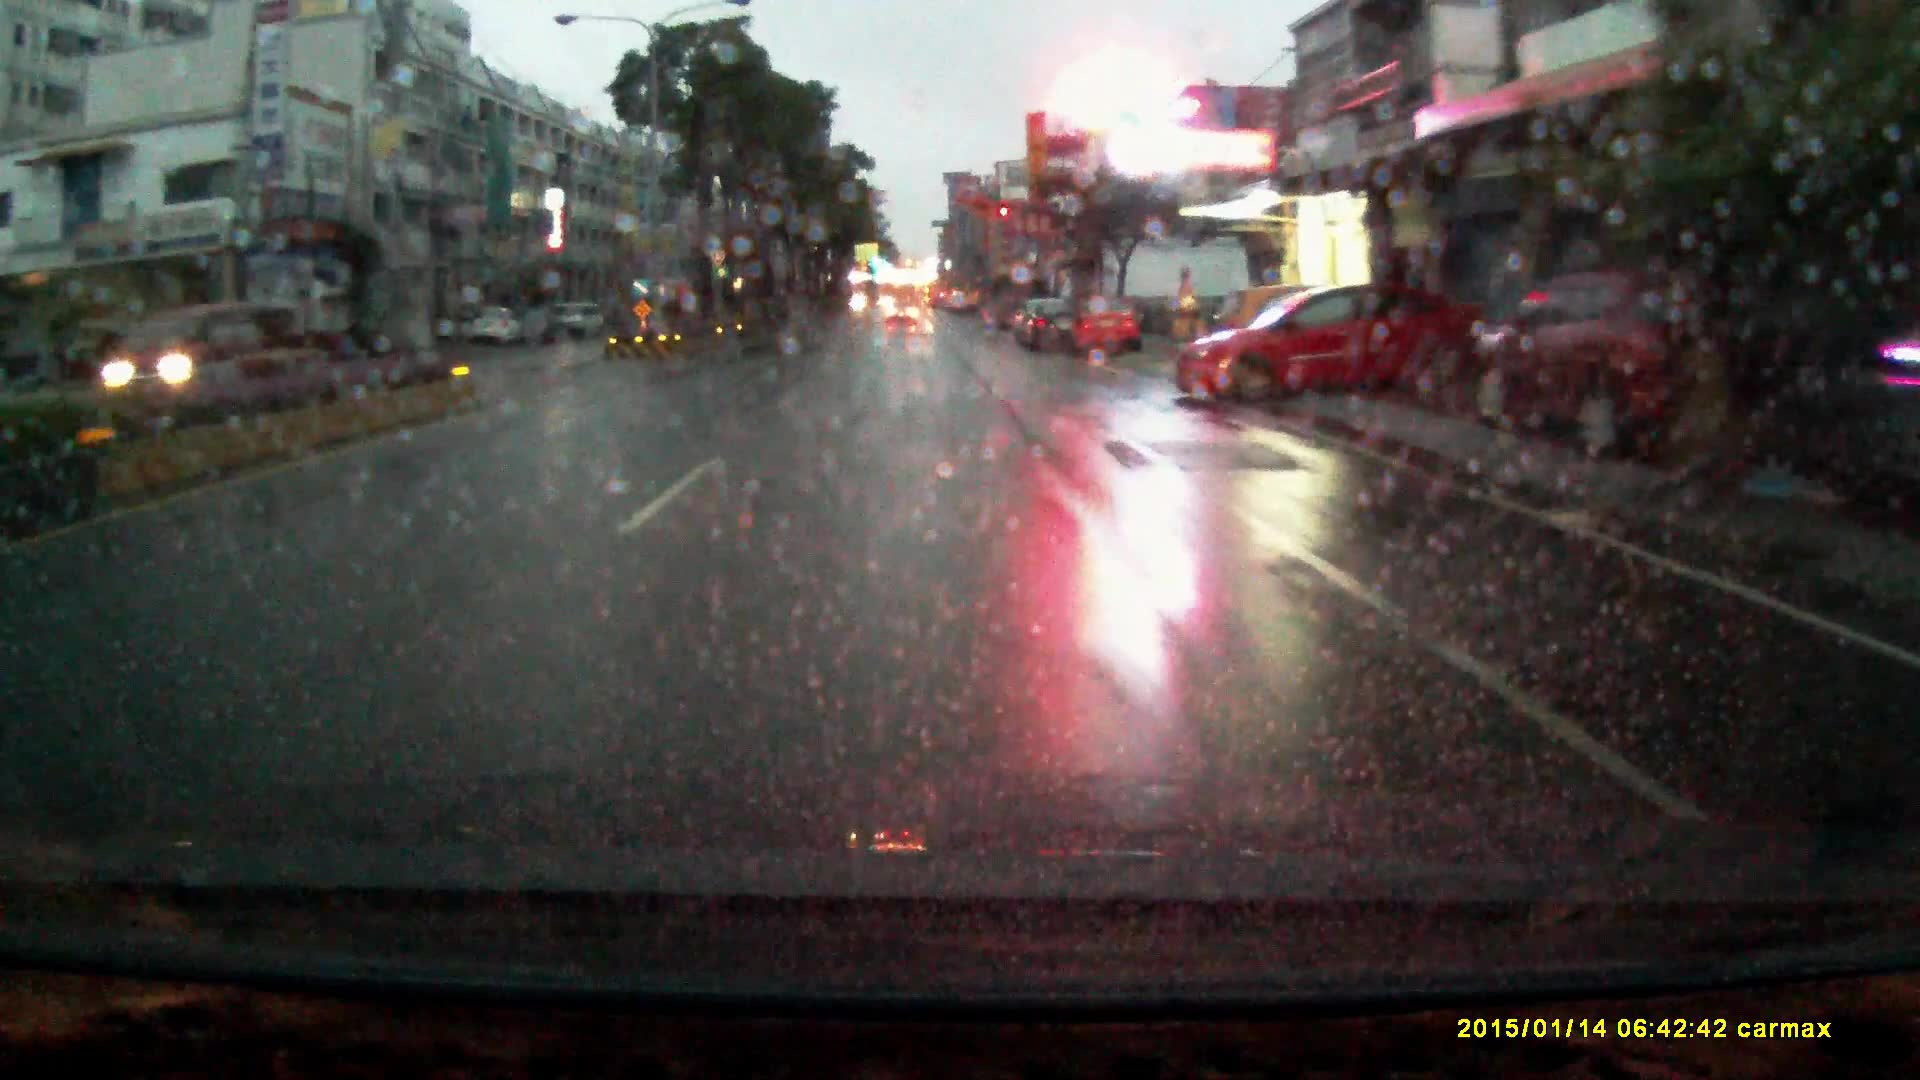vehicle: (1466, 273, 1776, 460), (1174, 285, 1491, 407), (107, 301, 280, 393), (1062, 302, 1147, 360), (1017, 301, 1081, 355), (469, 305, 521, 349), (551, 301, 608, 340), (887, 301, 918, 328)
